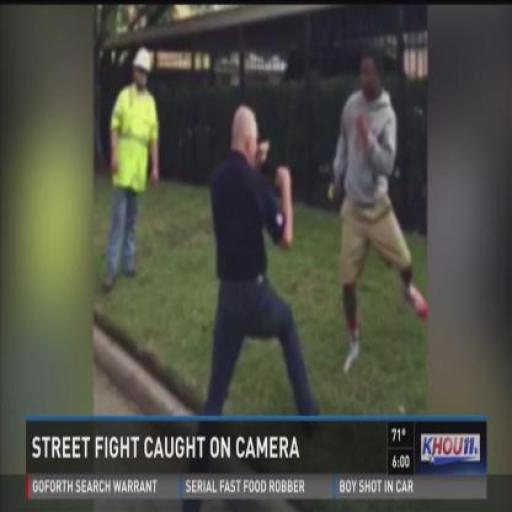Fighting: (205, 53, 427, 415)
